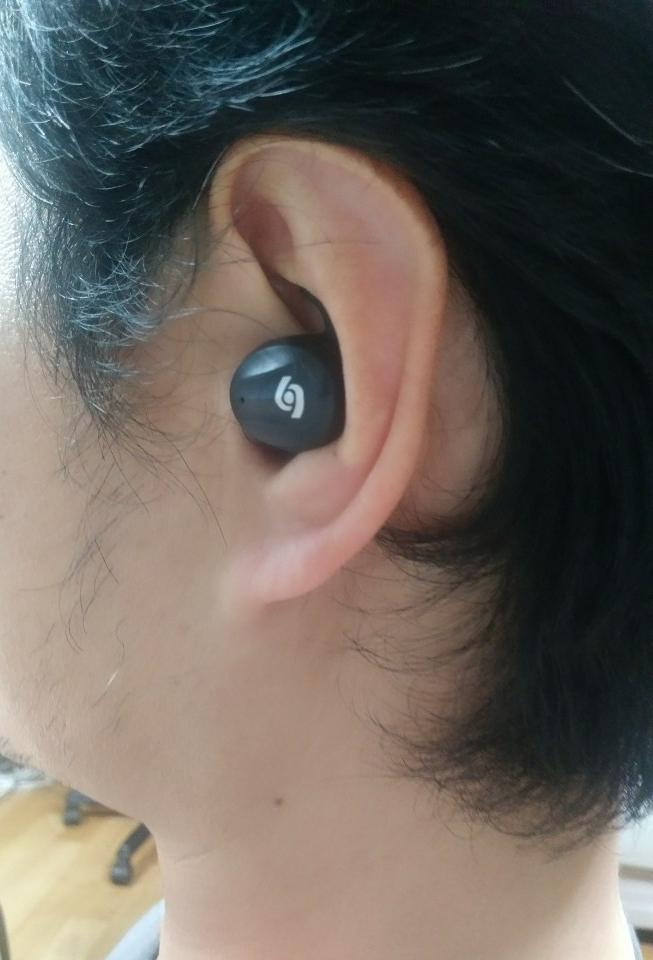earphone: (222, 340, 361, 474)
